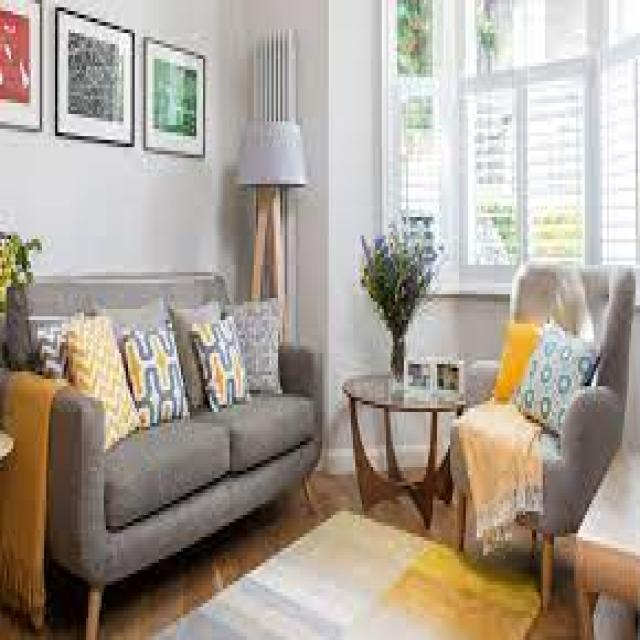Chair: (461, 242, 624, 571)
Lamp: (240, 116, 309, 358)
Sofa: (0, 233, 312, 567)
Table: (332, 325, 462, 527)
